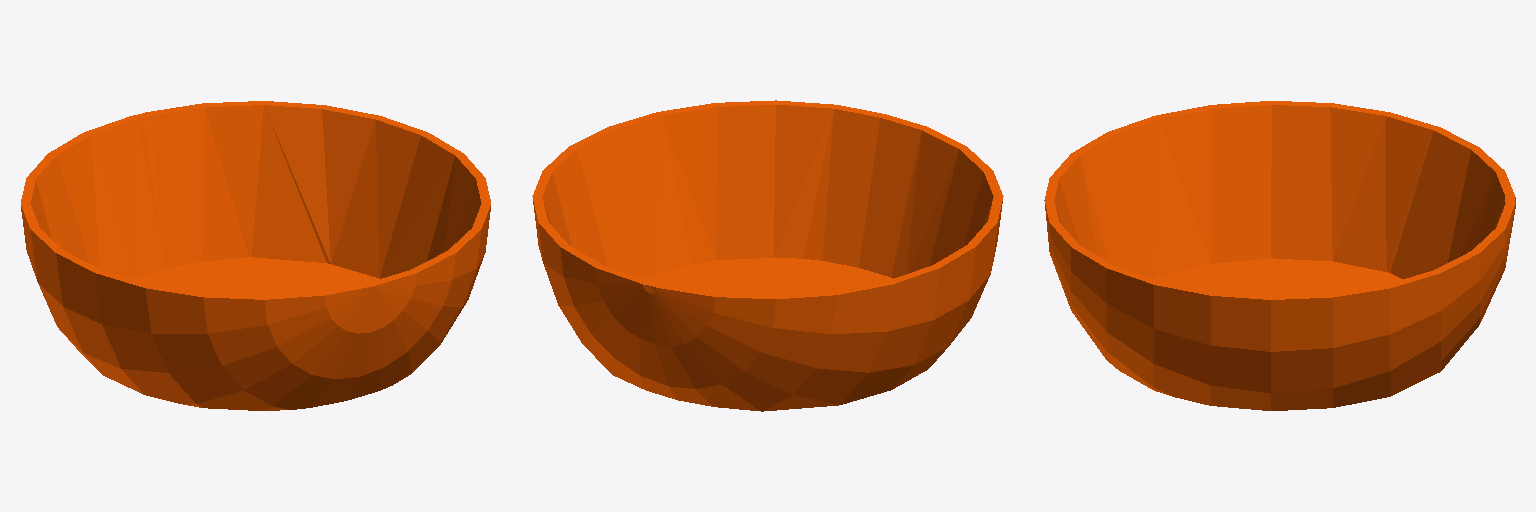
robot.urdf — Bowl_6a772d12b98ab61dc26651d9d35b77ca:
<?xml version="1.0" ?>
<robot name="Bowl_6a772d12b98ab61dc26651d9d35b77ca">
   <material name="obj_color">
      <color rgba="1.0 0.423529411765 0.0392156862745 1.0"/>
   </material>
   <link name="top">
      <inertial>
         <origin rpy="0.004932692804325152 0.00498239374041722 0.008664160193697732" xyz="0.0003115686133709327 -0.0001043307664358484 0.004839378848129419"/>
         <mass value="1.849173700335087"/>
         <inertia ixx="0.004982393740417074" ixy="-2.17997787140508e-10" ixz="1.726650112092279e-09" iyy="0.00493269280502289" iyz="-5.099041189340837e-08" izz="0.008664160193000141"/>
      </inertial>
      <visual>
         <origin rpy="0 0 0" xyz="0 0 0"/>
         <geometry>
            <mesh filename="top_watertight_tiny.stl" scale="1 1 1"/>
         </geometry>
         <material name="obj_color"/>
      </visual>
      <collision>
         <origin rpy="0 0 0" xyz="0 0 0"/>
         <geometry>
            <mesh filename="top_watertight_tiny.obj" scale="1 1 1"/>
         </geometry>
      </collision>
   </link>
   <link name="bottom">
      <inertial>
         <origin rpy="1.633333333331402e-08 1.633333333331402e-08 1.633333333331402e-08" xyz="0.08660200000000004 0.08660200000000004 0.08660200000000004"/>
         <mass value="0.0009800000000000026"/>
         <inertia ixx="1.633333333331402e-08" ixy="-0" ixz="-0" iyy="1.633333333331402e-08" iyz="-0" izz="1.633333333331402e-08"/>
      </inertial>
      <visual>
         <origin rpy="0 0 0" xyz="0 0 0"/>
         <geometry>
            <mesh filename="bottom_watertight_tiny.stl" scale="1 1 1"/>
         </geometry>
         <material name="obj_color"/>
      </visual>
   </link>
   <link name="world"/>
   <joint name="world_to_base" type="fixed">
      <origin xyz="0 0 0"/>
      <axis xyz="0 0 0"/>
      <parent link="world"/>
      <child link="bottom"/>
   </joint>
   <joint name="rotation" type="revolute">
      <origin xyz="0 0 0"/>
      <axis xyz="0 0 -1"/>
      <parent link="bottom"/>
      <child link="top"/>
      <dynamics damping="1.0" friction="1.0"/>
      <limit effort="0.1" velocity="0.1" lower="0" upper="0.001"/>
   </joint>
</robot>

--- Facts derived from the render (not from the file) ---
The picture shows the robot from 3 angles, left to right: view 1: azimuth 30°, elevation 25°; view 2: azimuth 150°, elevation 25°; view 3: azimuth 270°, elevation 25°; orthographic projection.
Model Bowl_6a772d12b98ab61dc26651d9d35b77ca with 3 links and 2 joints (1 revolute, 1 fixed), rooted at world, posed every joint at zero.
Visible links, largest first — view 1: top; view 2: top; view 3: top.
Link boxes in pixels (x1,y1,x2,y2): top: (21, 101, 490, 410); top: (532, 100, 1003, 411); top: (1044, 101, 1515, 410).
Bounding box of the posed robot: 0.2078 × 0.2074 × 0.0653 m (x, y, z).
Meshes: 2 distinct files referenced, 1 mesh visuals loaded (1 binary STL); not drawn: 1 (reference not matched to a file when rendering).